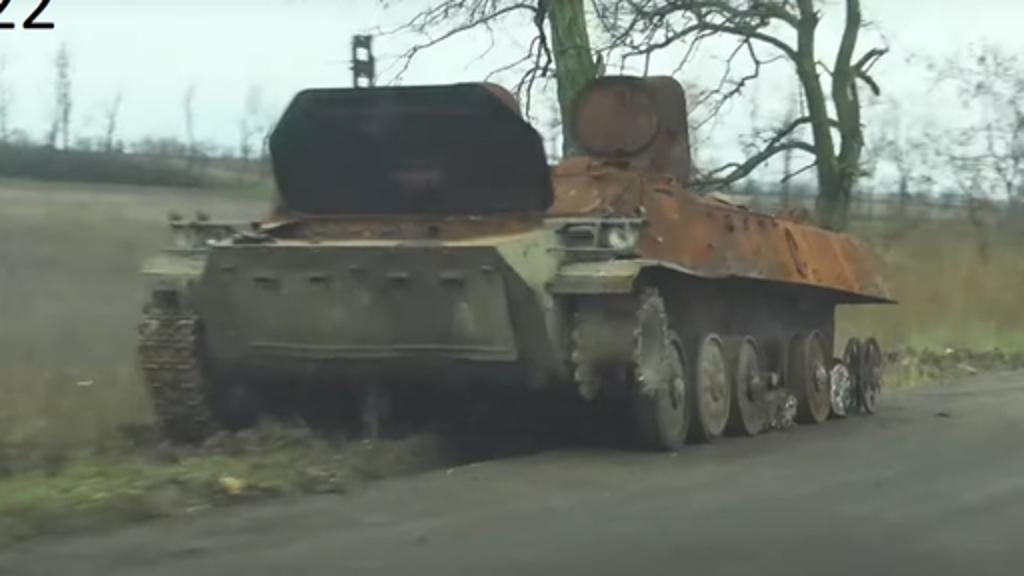APC-IFV: (118, 60, 890, 462)
